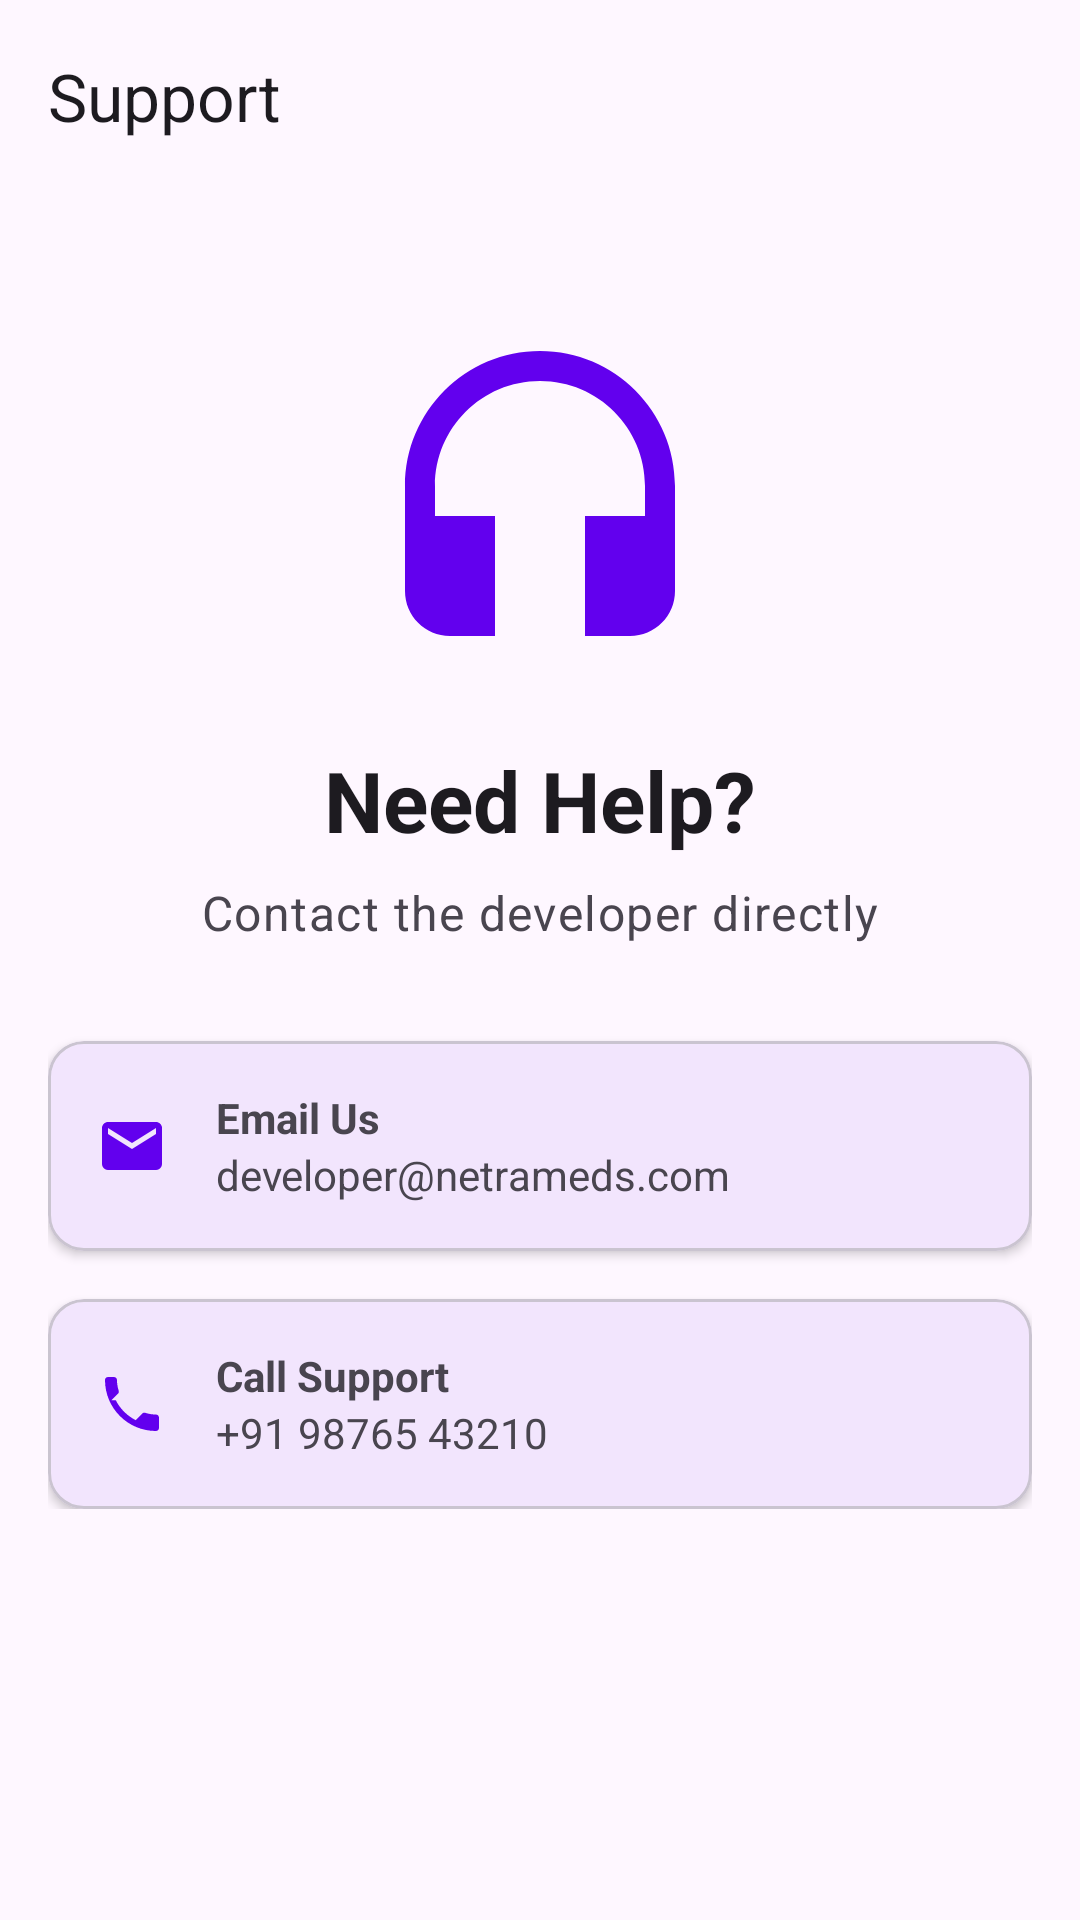

Where icons sit on this 1080x1920 app screen, as bbox=(x1, y1, x2, y2):
phone: bbox=(105, 1377, 159, 1431)
support: bbox=(405, 351, 675, 636)
